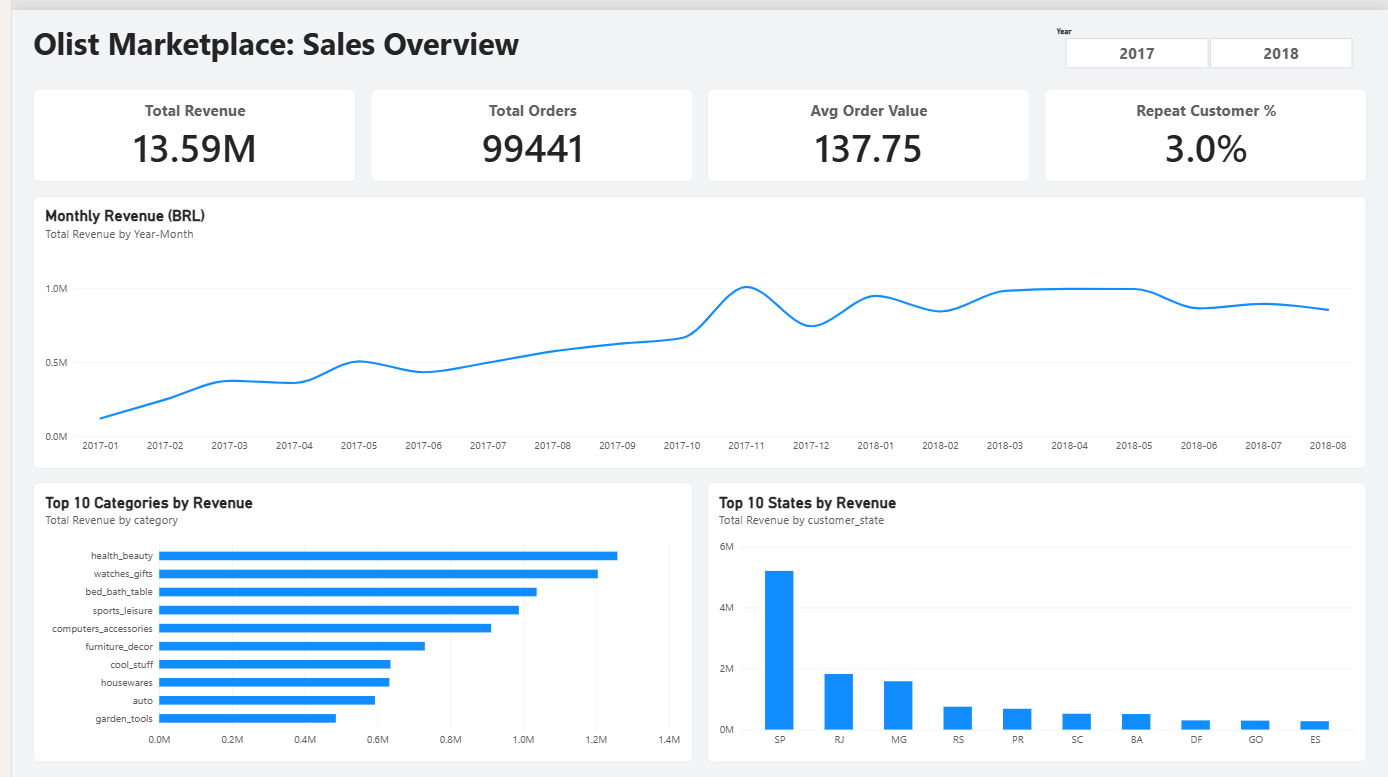

The page's visual inventory and layout, read from the dashboard file:
{"tool":"powerbi","page":{"name":"Page 1","canvas":[1920,1080],"ordinal":0},"visuals":[{"type":"cardVisual","fields":{"Data":["Orders.Repeat Customer %"]},"box":[1440,110,450,130],"z":0},{"type":"cardVisual","fields":{"Data":["Orders.Total Orders"]},"box":[500,110,450,130],"z":1000},{"type":"cardVisual","fields":{"Data":["Orders.Total Revenue"]},"box":[30,110,450,130],"z":2000},{"type":"cardVisual","fields":{"Data":["Orders.Avg Order Value"]},"box":[970,110,450,130],"z":3000},{"type":"slicer","fields":{"Values":["Dim_Date.Year"]},"box":[1450,22,440,60],"z":4000},{"type":"lineChart","title":"Monthly Revenue (BRL)","fields":{"Category":["Dim_Date.Year-Month"],"Y":["Orders.Total Revenue"]},"box":[30,260,1860,380],"z":5000},{"type":"clusteredBarChart","title":"Top 10 Categories by Revenue","fields":{"Category":["Sales_Items.category"],"Y":["Orders.Total Revenue"]},"box":[30,660,920,390],"z":6000},{"type":"clusteredColumnChart","title":"Top 10 States by Revenue","fields":{"Category":["Sales_Items.customer_state"],"Y":["Orders.Total Revenue"]},"box":[970,660,920,390],"z":7000},{"type":"textbox","box":[30,15,1000,70],"z":8000}]}

Visuals, with their boxes in screenshot pixels (x1, y1, x2, y2), scaled from the page's 1920x1080 canvas onto the 1388x777 screenshot:
cardVisual - Orders.Repeat Customer %: 1041:79:1366:173
cardVisual - Orders.Total Orders: 361:79:687:173
cardVisual - Orders.Total Revenue: 22:79:347:173
cardVisual - Orders.Avg Order Value: 701:79:1027:173
slicer - Dim_Date.Year: 1048:16:1366:59
"Monthly Revenue (BRL)" lineChart: 22:187:1366:460
"Top 10 Categories by Revenue" clusteredBarChart: 22:475:687:755
"Top 10 States by Revenue" clusteredColumnChart: 701:475:1366:755
textbox: 22:11:745:61
